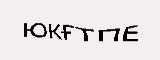Б: (117, 15, 129, 36)
К: (101, 12, 116, 34)
Н: (55, 3, 77, 34)
Т: (79, 8, 97, 31)
Я: (28, 4, 52, 34)
